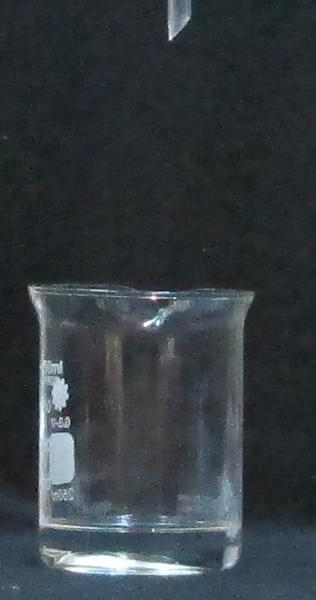Beaker: (17, 271, 253, 587)
